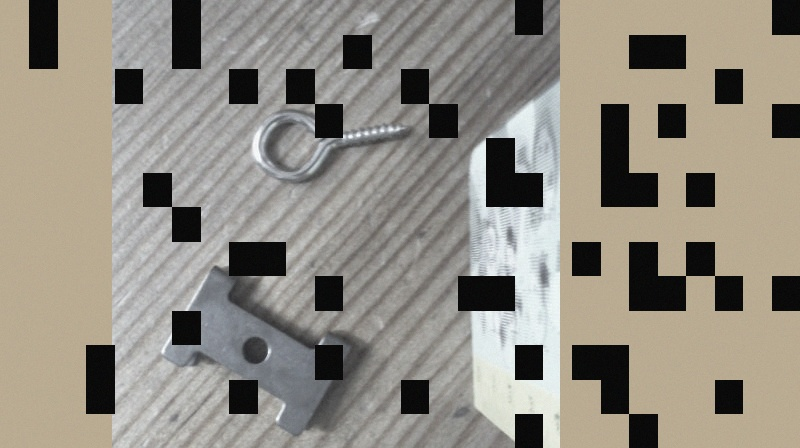O001: (251, 106, 415, 186)
O002: (158, 259, 356, 437)
